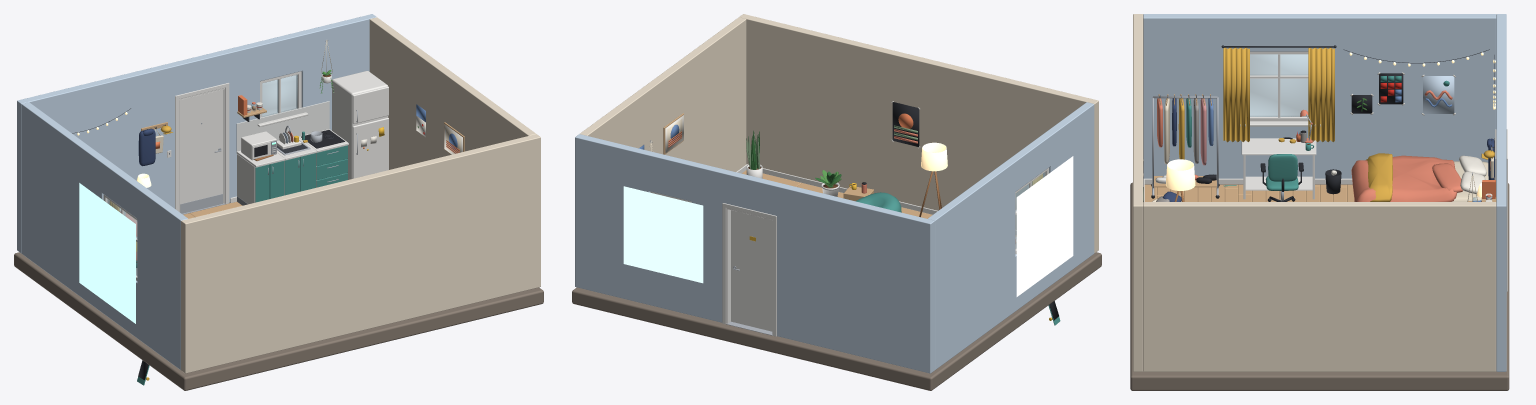
Rendered from tier1.glb.
3 views of the same model, side by side, from view 1: azimuth 30°, elevation 25°; view 2: azimuth 150°, elevation 25°; view 3: azimuth 270°, elevation 25° (orthographic). The views are drawn at different scales.
Visible parts, largest first — view 1: wall_s, wall_n, wall_w, wall_e, slab, door_mesh, kitchenette_mesh, window_mesh, fridge_mesh, kitchenette_upper_mesh, window_2_mesh, decor_n_mesh (+1 smaller); view 2: wall_n, wall_s, wall_w, wall_e, slab, door_mesh, window_2_mesh, window_mesh, poster_s_mesh, floor_lamp_mesh, decor_e_mesh, wall_s_trim (+3 smaller); view 3: wall_e, wall_w, window_mesh, slab, bed_mesh, wall_n, wall_s, clothes_rack_mesh, computer_mesh, decor_w_mesh, floor, floor_lamp_mesh (+4 smaller).
Part boxes in pixels (x1,y1,x2,y2): wall_s: (181, 134, 540, 373); wall_n: (17, 14, 376, 253); wall_w: (21, 102, 187, 369); wall_e: (369, 17, 535, 169); slab: (14, 202, 543, 390); door_mesh: (175, 83, 229, 214); kitchenette_mesh: (236, 125, 348, 205); window_mesh: (79, 183, 137, 323); fridge_mesh: (332, 71, 388, 179); kitchenette_upper_mesh: (236, 101, 329, 151); window_2_mesh: (257, 71, 308, 126); decor_n_mesh: (72, 95, 266, 166); wall_n: (575, 134, 934, 373); wall_s: (739, 14, 1098, 253); wall_w: (928, 102, 1094, 369); wall_e: (580, 17, 746, 171); slab: (572, 252, 1101, 390); door_mesh: (722, 203, 776, 336); window_2_mesh: (623, 186, 703, 283); window_mesh: (1015, 156, 1073, 296); poster_s_mesh: (891, 101, 920, 148); floor_lamp_mesh: (919, 142, 947, 216); decor_e_mesh: (639, 113, 683, 154); wall_s_trim: (747, 164, 1016, 234); wall_e: (1143, 202, 1496, 371); wall_w: (1143, 14, 1496, 178); window_mesh: (1221, 45, 1336, 142); slab: (1130, 182, 1509, 390); bed_mesh: (1351, 153, 1494, 201); wall_n: (1496, 14, 1506, 371); wall_s: (1133, 14, 1143, 371); clothes_rack_mesh: (1151, 94, 1219, 198); computer_mesh: (1241, 109, 1316, 201); decor_w_mesh: (1343, 49, 1489, 115); floor: (1144, 184, 1354, 201); floor_lamp_mesh: (1166, 159, 1195, 201).
Bounding box in the file's own units: 6.96 × 3.44 × 5.76.
